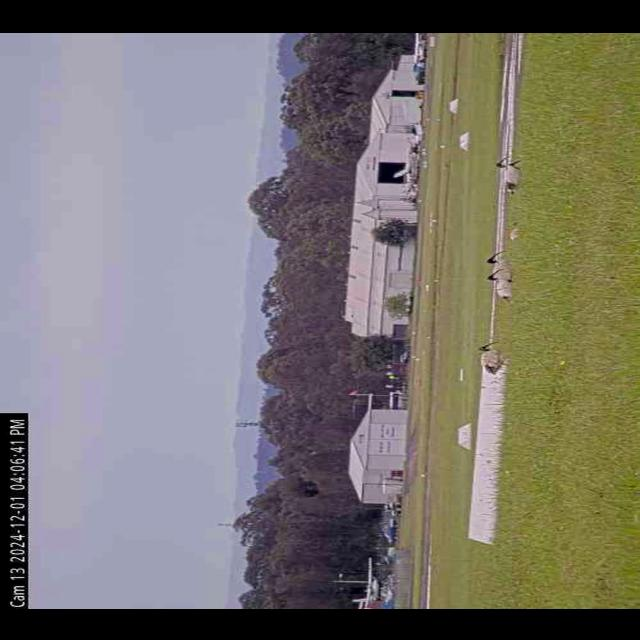Birds-Ibis: (483, 266, 521, 304), (473, 338, 513, 374), (491, 154, 525, 196), (482, 248, 516, 276), (506, 158, 526, 168)
